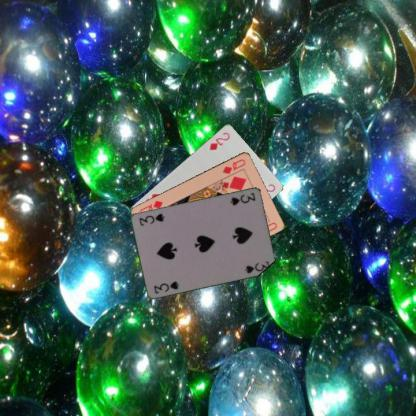2d: (206, 130, 231, 152)
3s: (152, 278, 180, 295), (228, 190, 257, 206)
Qd: (220, 156, 247, 175)
